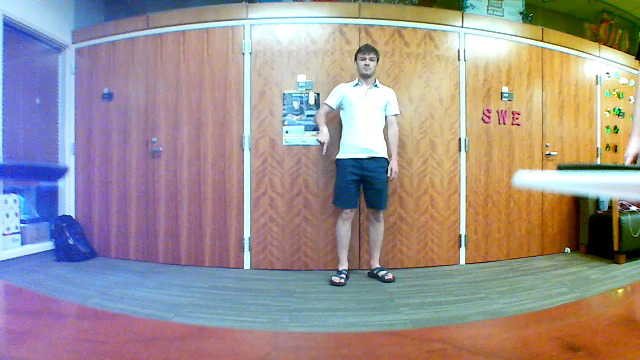down: (311, 125, 334, 156)
